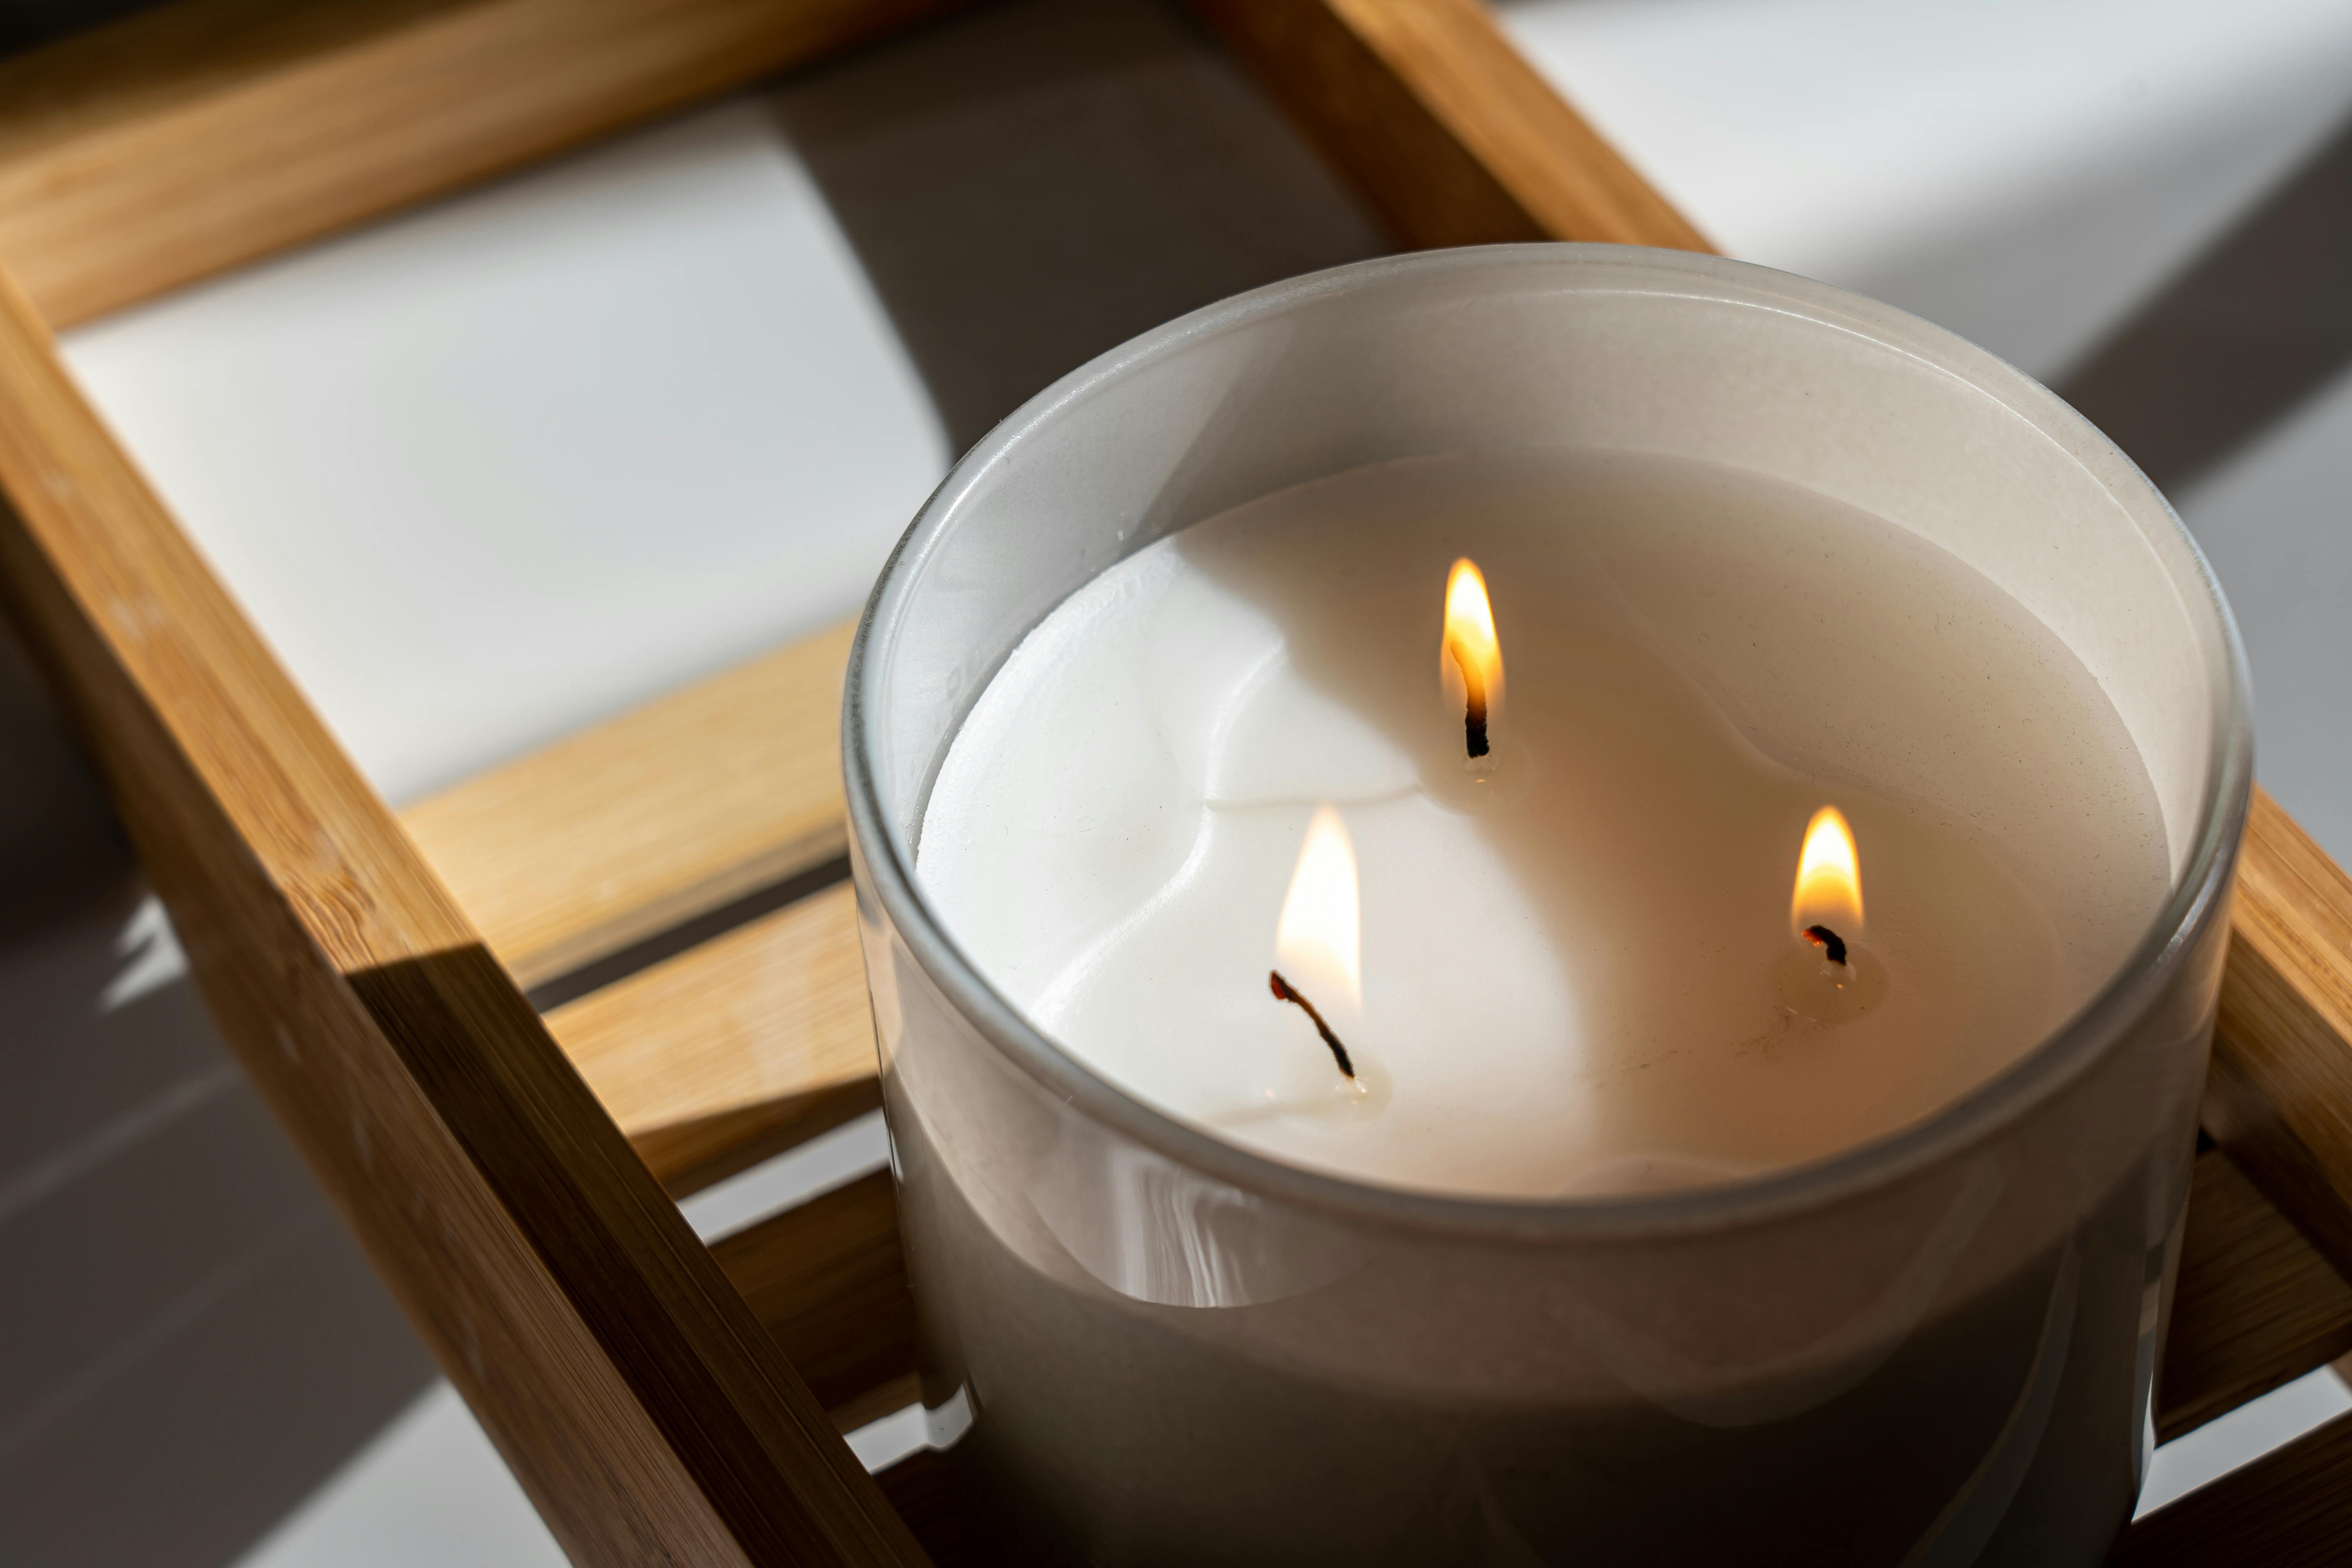Fire: (1255, 784, 1395, 1088), (1764, 781, 1906, 1001), (1424, 546, 1526, 763)
